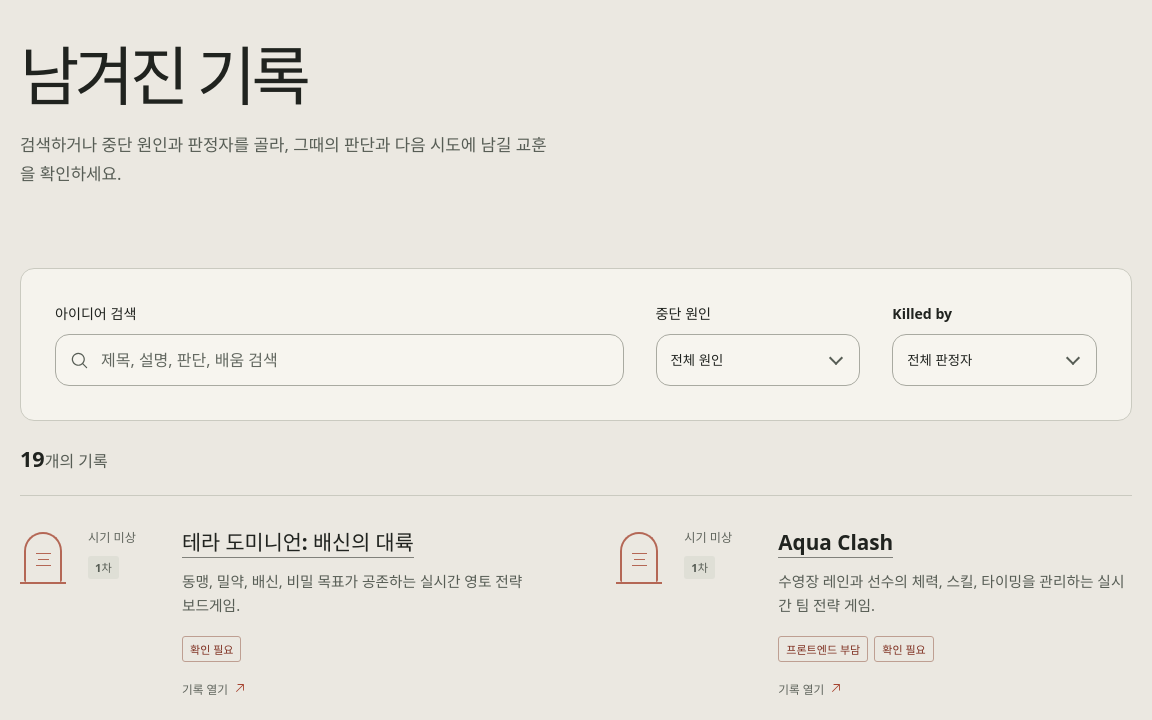
Test: App › 선택한 중단 원인에 해당하는 기록만 보여준다
The image size is (1152, 720).
(page scrolled)
Select "프론트엔드 부담" in the dropdown labelled "중단 원인": (758, 360) x1=657 y1=335 x2=859 y2=385
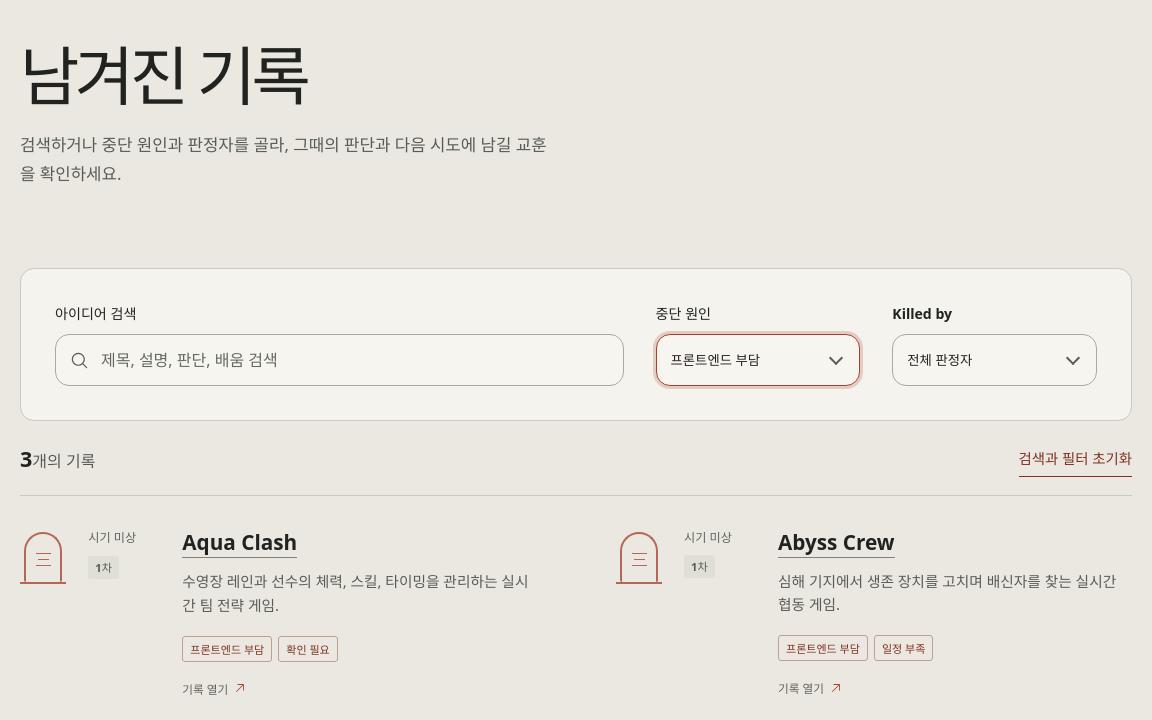
Expected: the button "Abyss Crew" is shown, x1=778 y1=530 x2=895 y2=558
Expected: the number of list items is 3
